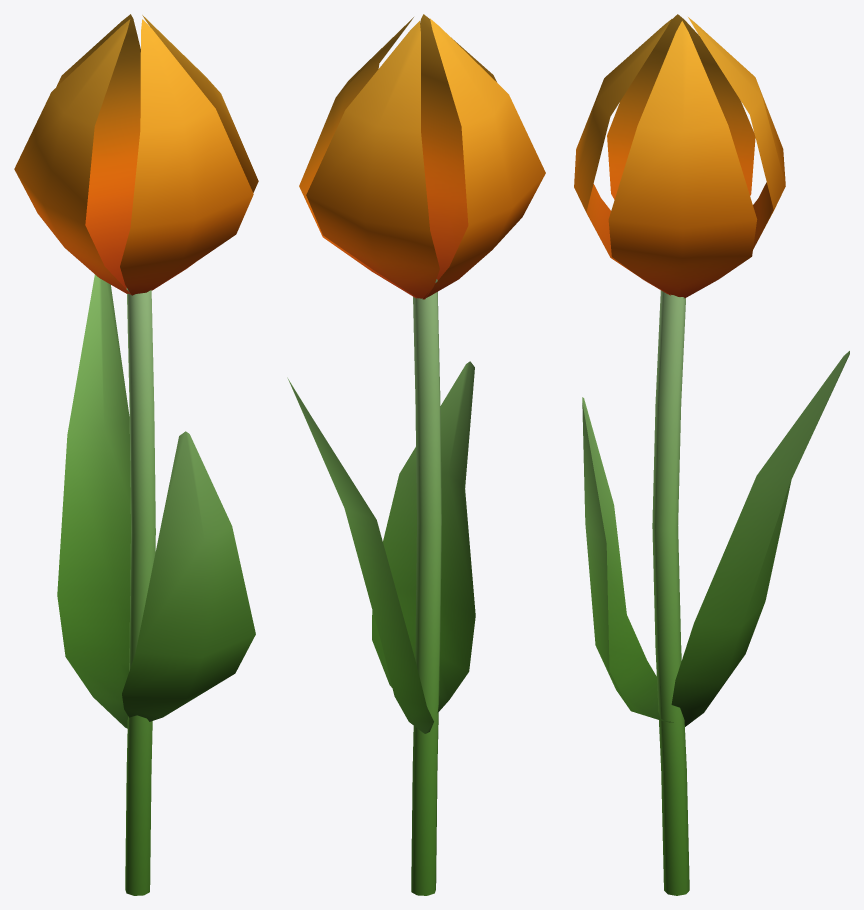
File: tulip.fbx
3 views of the same model, side by side, from view 1: azimuth 30°, elevation 25°; view 2: azimuth 150°, elevation 25°; view 3: azimuth 270°, elevation 25° (orthographic).
Parts seen in each view (by area): view 1: Circle.003; view 2: Circle.003; view 3: Circle.003.
Part boxes in pixels (x1=…): Circle.003: x1=14, y1=14, x2=258, y2=895; Circle.003: x1=287, y1=14, x2=545, y2=895; Circle.003: x1=574, y1=14, x2=849, y2=895.
Size of the model in its own units: 25.42 by 115 by 33.06.
